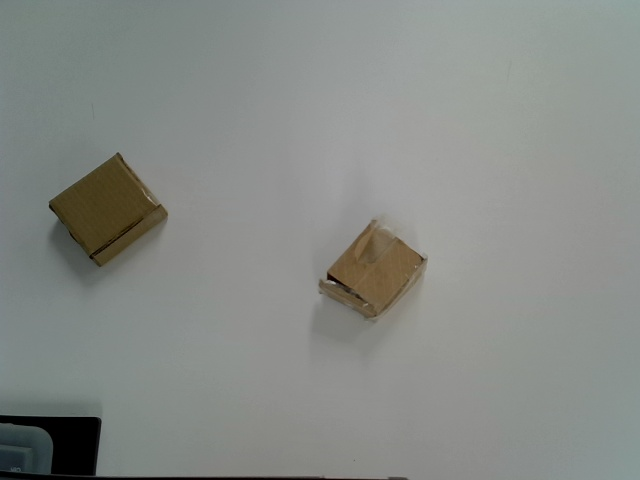defect: (317, 214, 431, 323)
normal: (48, 151, 171, 268)
